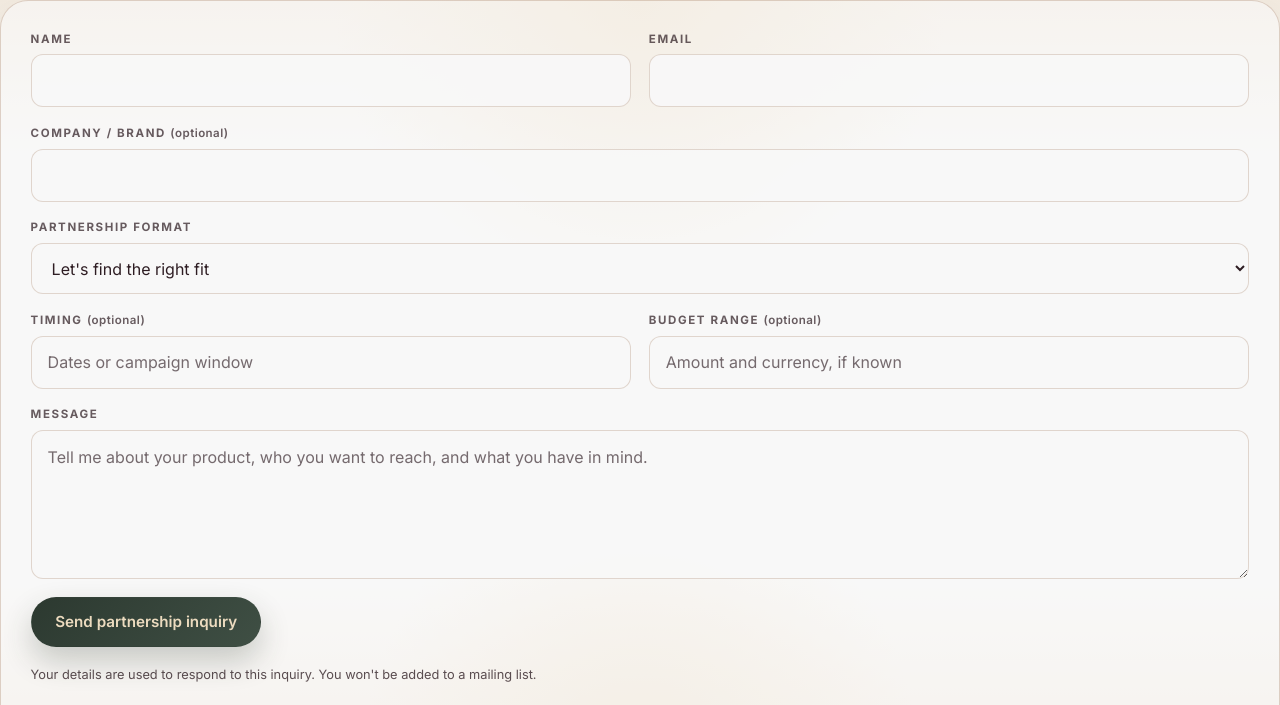
Test: ContactForm › does not claim success on a malformed successful HTTP response
Type "Alex Example" into the field labelled "Name".
click(331, 81); type("Alex Example")  # box [31, 54, 631, 108]
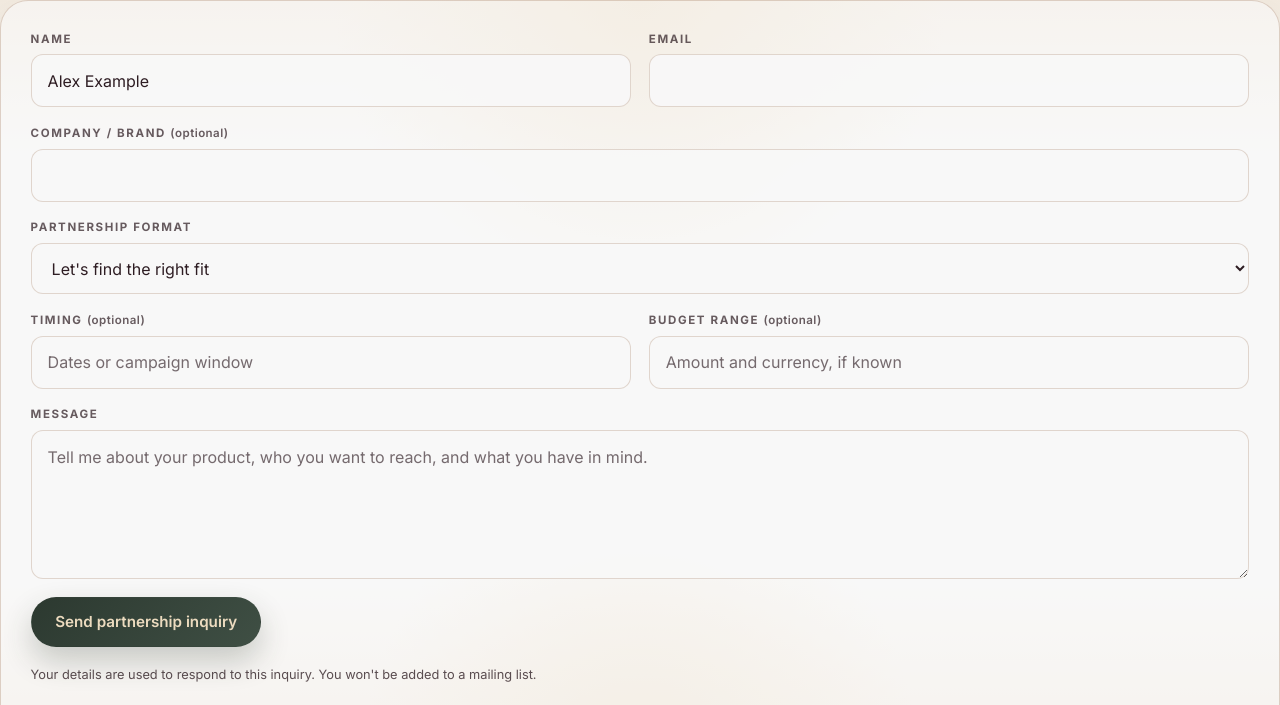
Type "alex@example.com" into the field labelled "Email".
click(949, 81); type("alex@example.com")  # box [649, 54, 1249, 108]
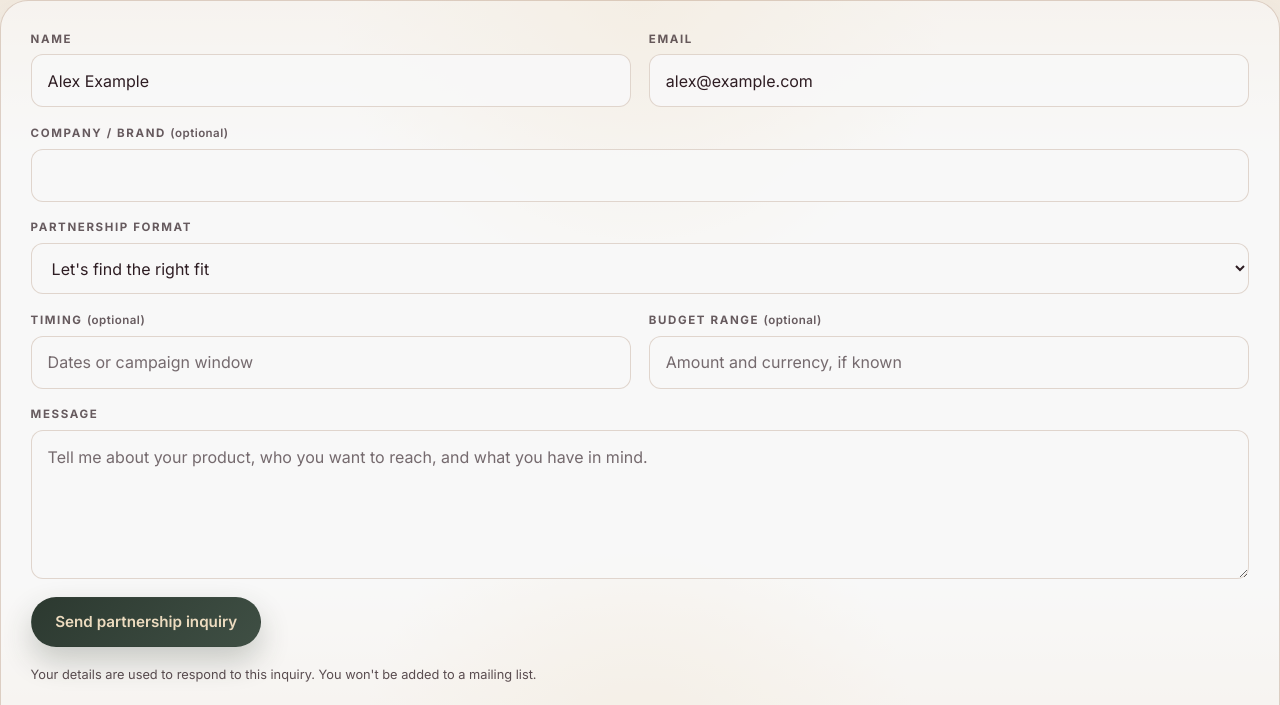
Replace the text in the text box labelled "Message" with "A campaign brief worth keeping after an outage." at (640, 505), box [31, 430, 1249, 579]
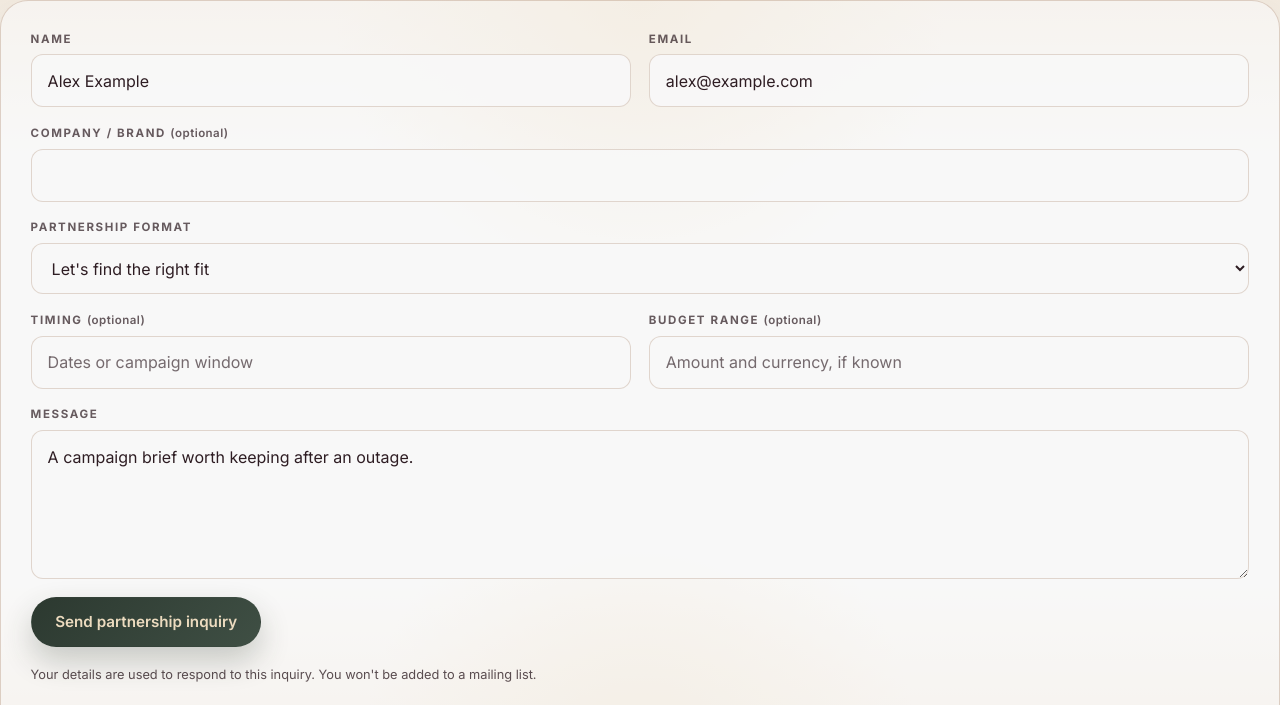
Click the button "Send partnership inquiry".
click(146, 622)  # box [31, 597, 261, 647]
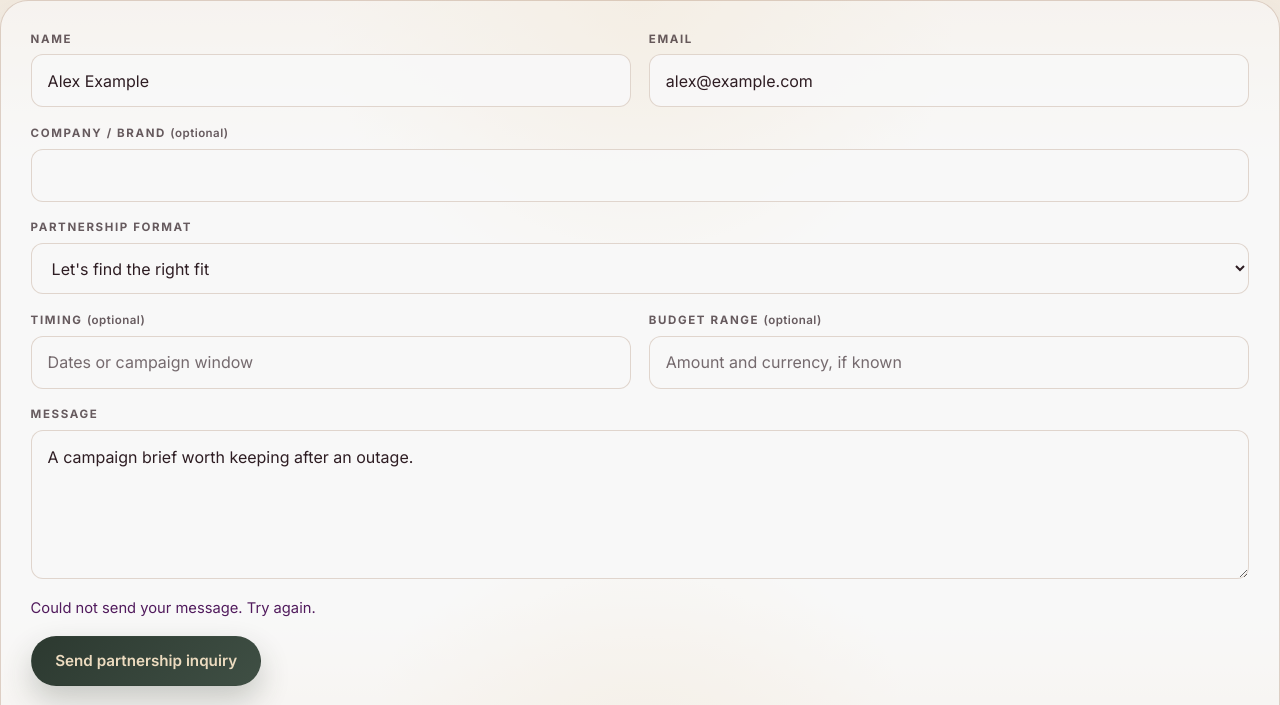
Check: the message shows "Could not send", box [31, 599, 316, 617]
